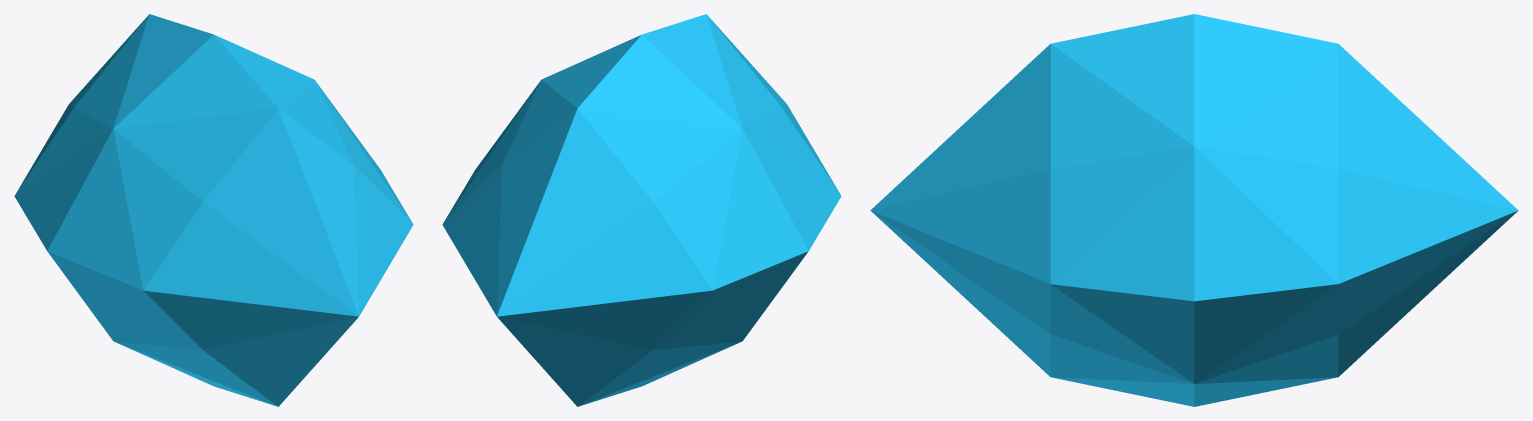
Rendered from CrystalCyan.obj.
3 renders of one model, left to right at view 1: azimuth 30°, elevation 25°; view 2: azimuth 150°, elevation 25°; view 3: azimuth 270°, elevation 25°, orthographic. The views are drawn at different scales.
Parts seen in each view (by area): view 1: CrystalCyan; view 2: CrystalCyan; view 3: CrystalCyan.
Boxes of the visible parts, x1=… form: CrystalCyan: x1=14, y1=14, x2=413, y2=406; CrystalCyan: x1=442, y1=14, x2=841, y2=406; CrystalCyan: x1=870, y1=14, x2=1518, y2=406.
Bounding box in the file's own units: 0.8962 × 0.9034 × 1.35.
